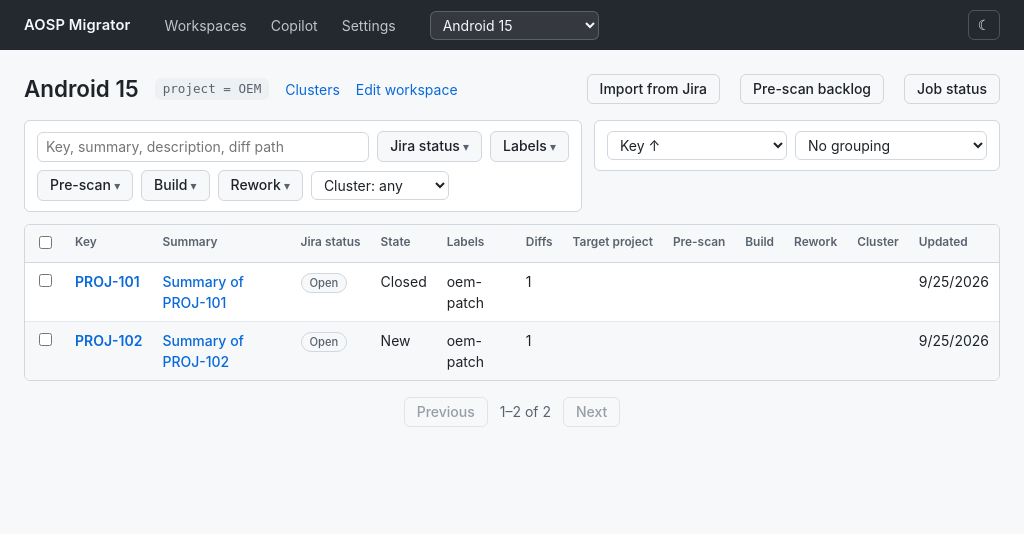
Test: BacklogPage › resets selected items after confirming
This screenshot has width=1024, height=534.
Click the checkbox named "Select PROJ-101".
click(46, 280)  # box [39, 274, 52, 287]
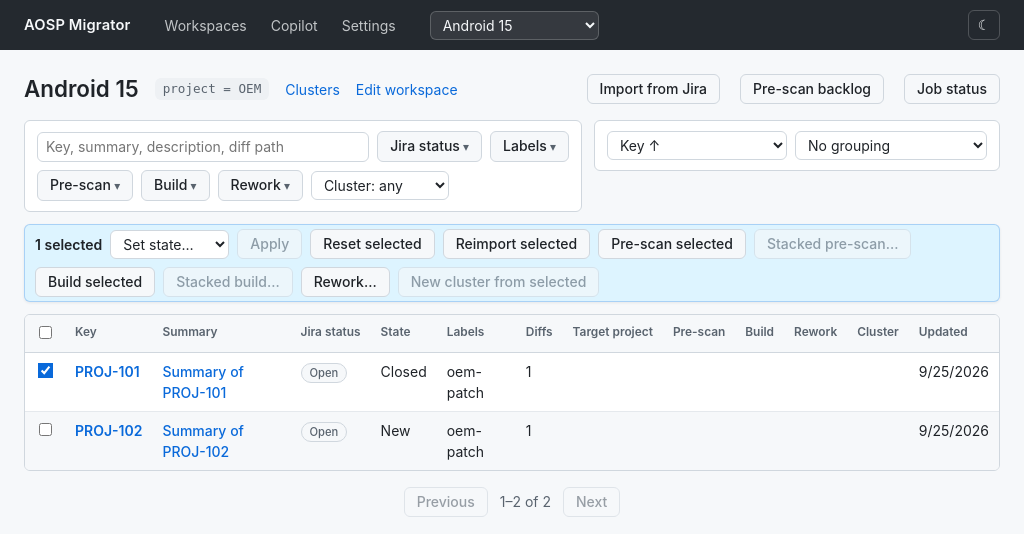
Click the button "Reset selected".
click(373, 244)  # box [310, 229, 435, 259]
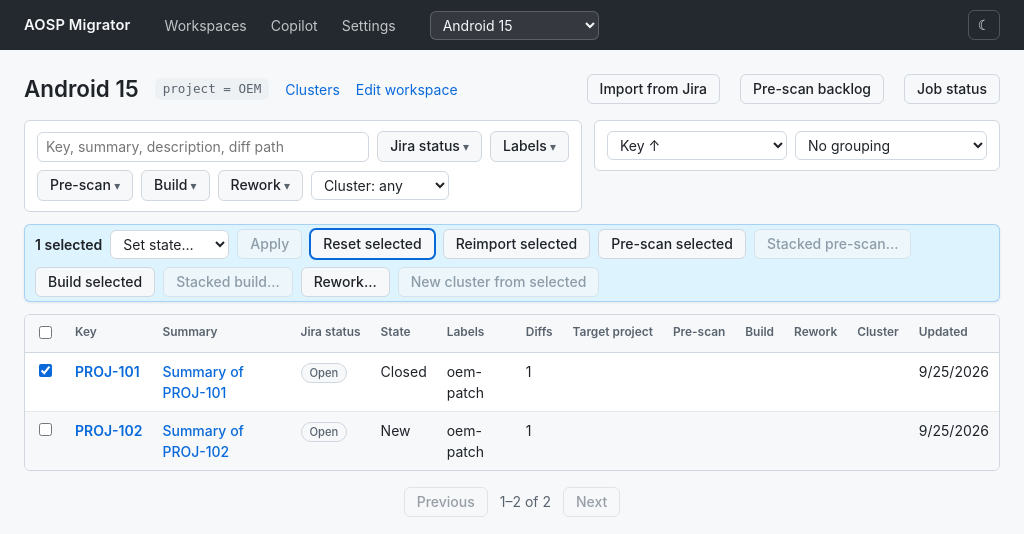
Click the button "Reset selected".
click(373, 244)  # box [310, 229, 435, 259]
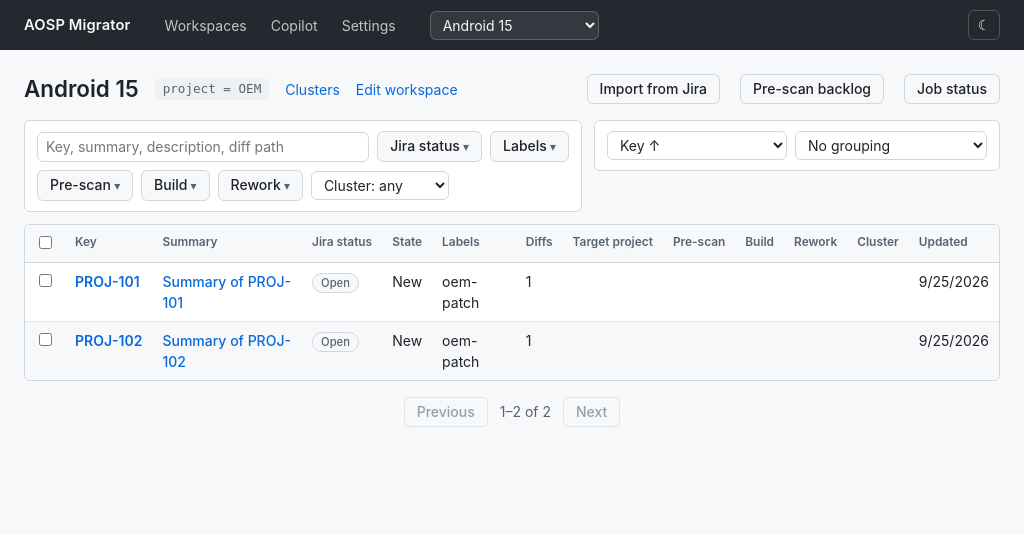
Now the text "New" in the row of "Summary of PROJ-101" is shown, box [392, 273, 422, 290]
